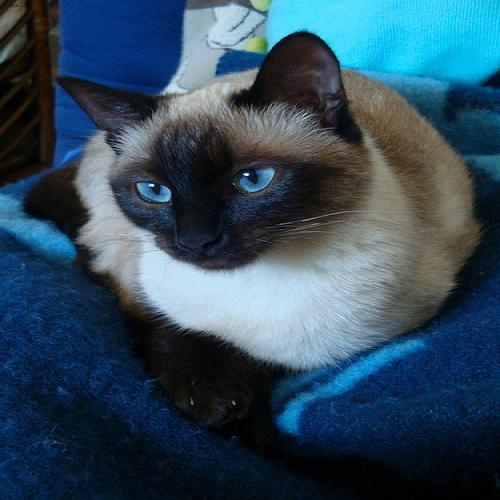siamese: (47, 24, 405, 293)
